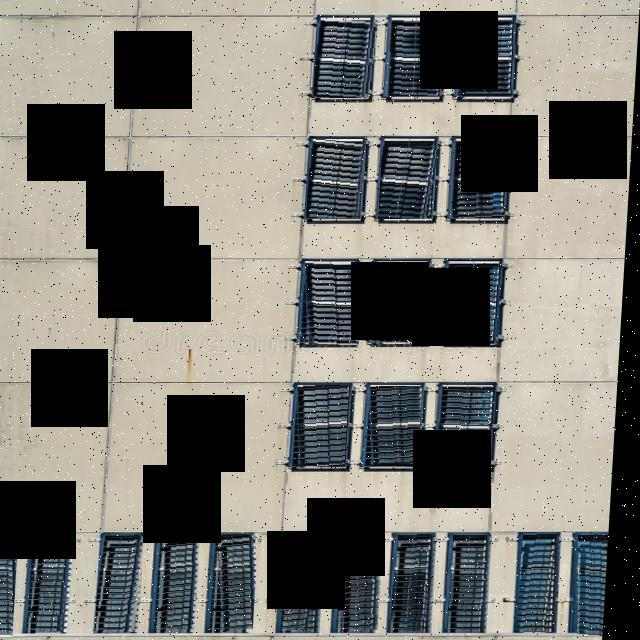Window: (303, 262, 367, 346), (102, 533, 154, 633), (441, 388, 506, 467), (375, 260, 436, 344), (314, 18, 378, 98), (458, 22, 523, 98), (447, 266, 508, 346), (308, 138, 368, 218), (387, 18, 448, 96), (381, 141, 442, 219), (297, 385, 354, 468), (452, 141, 512, 219), (369, 386, 427, 466), (34, 532, 78, 636), (220, 534, 266, 632), (166, 532, 210, 633), (347, 532, 390, 633), (524, 533, 566, 634), (397, 534, 439, 633), (454, 534, 496, 633), (290, 531, 330, 632), (575, 537, 615, 636), (0, 532, 25, 637)
